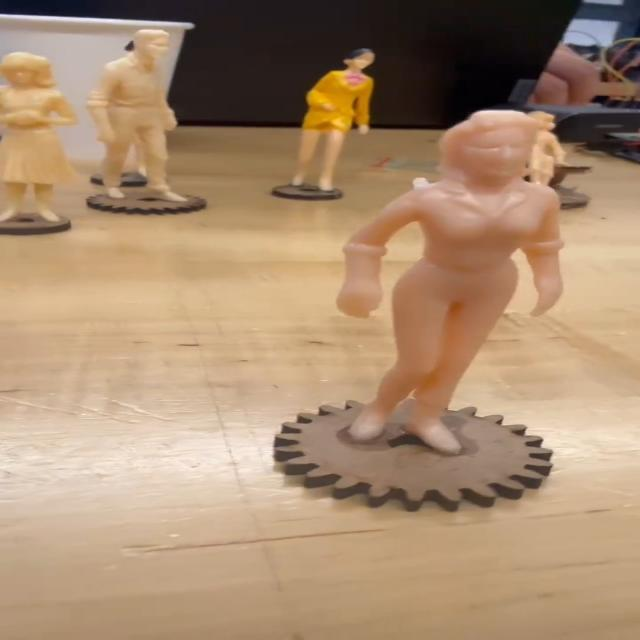Unauthorized: (335, 111, 576, 460)
